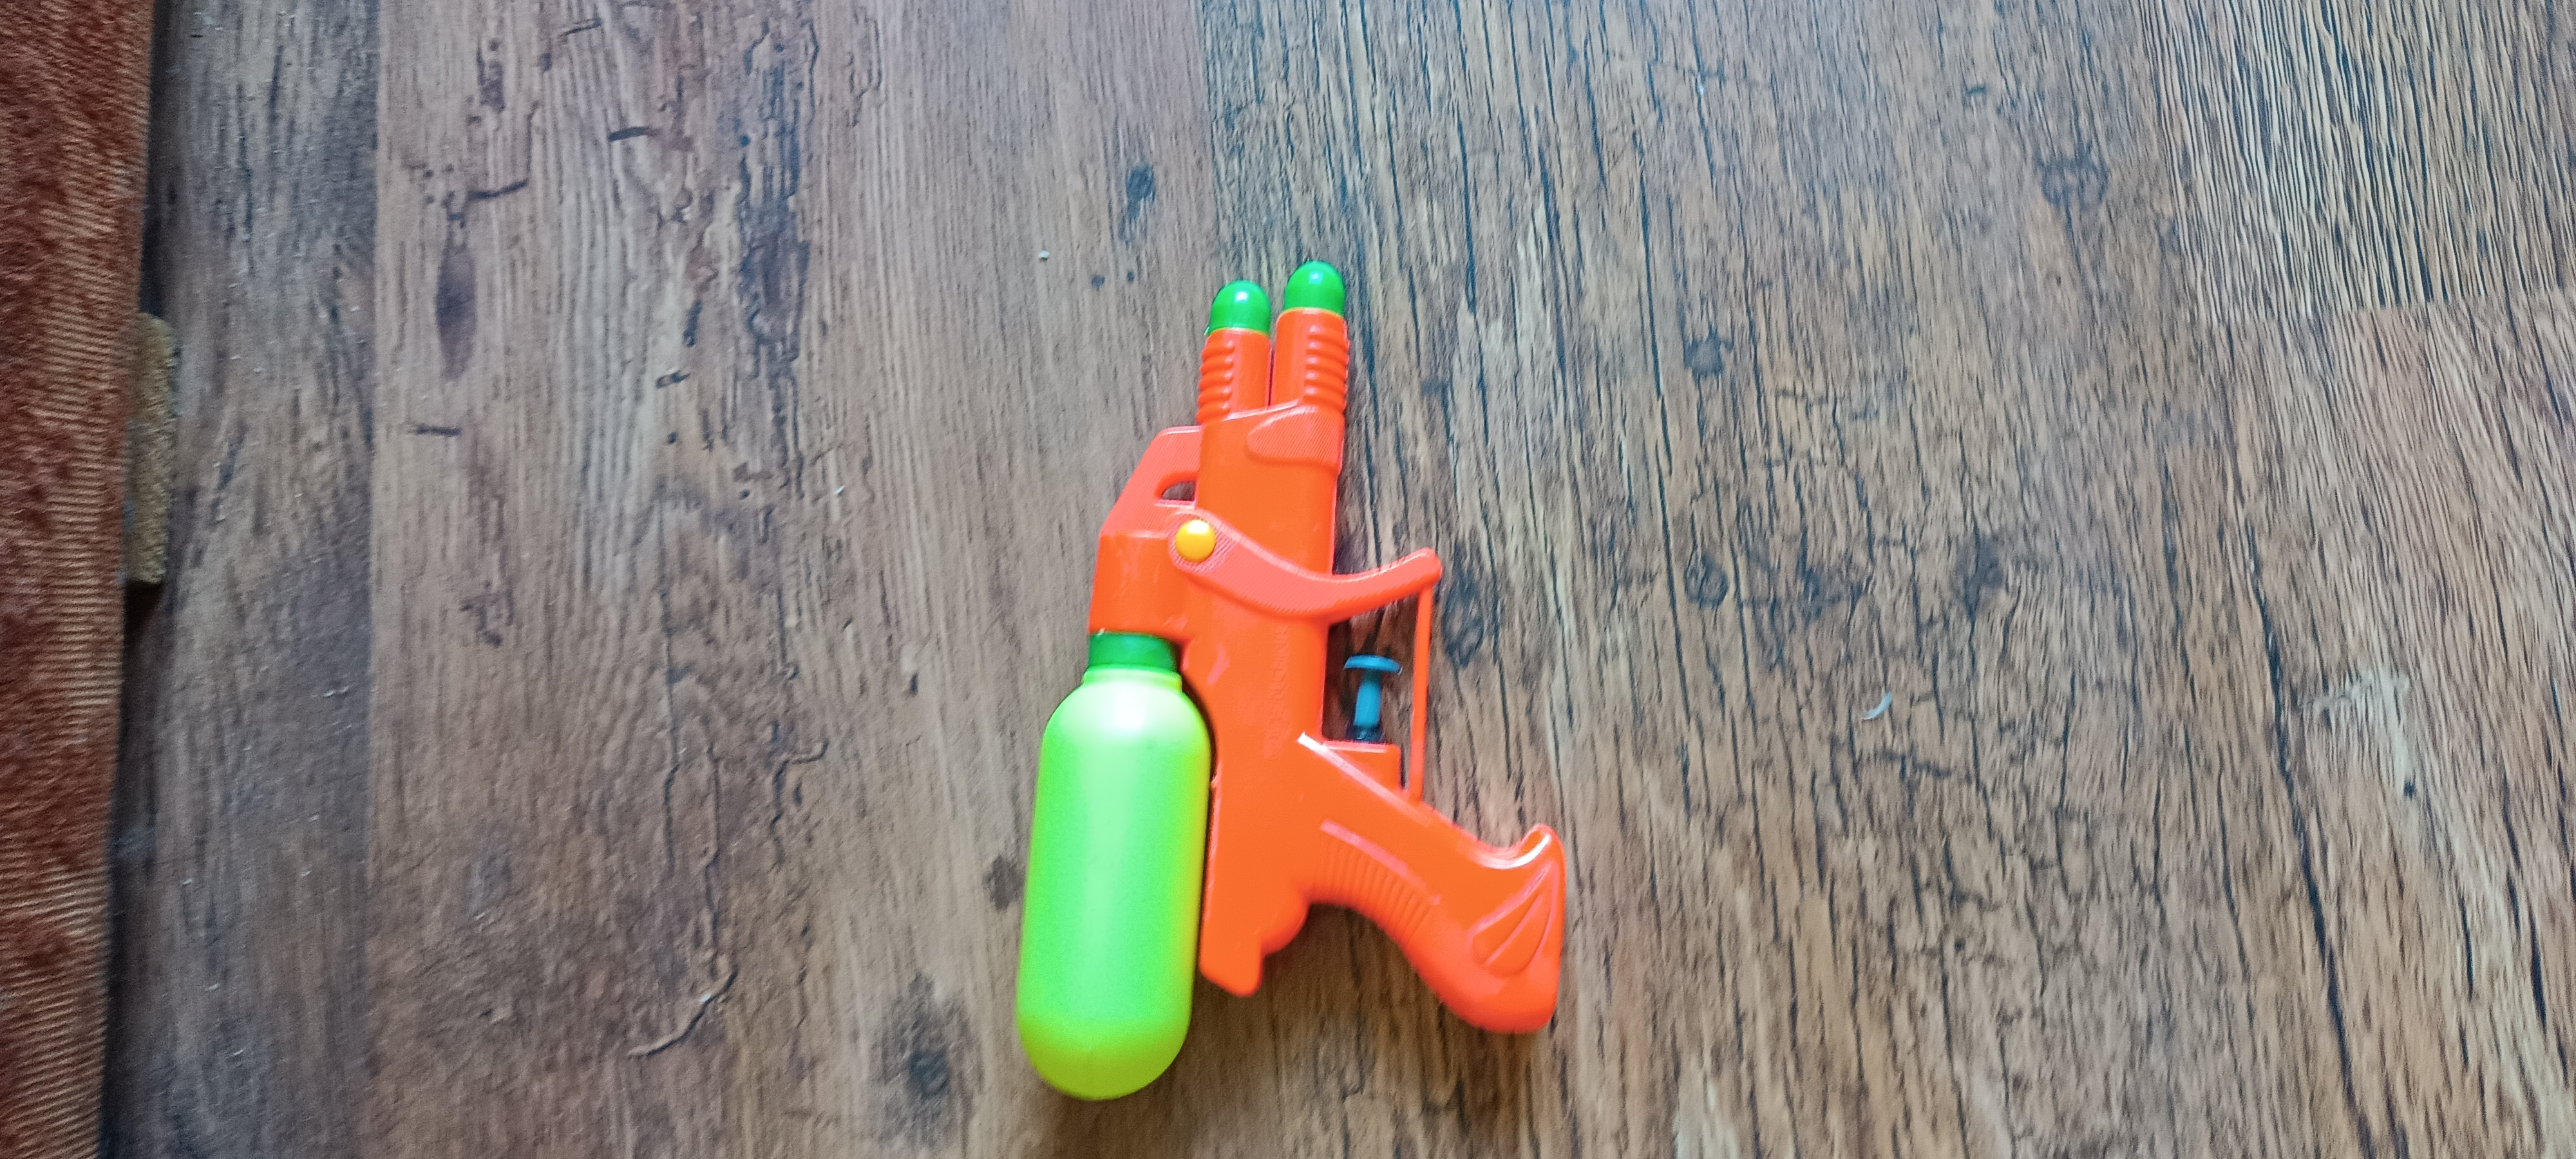Water Gun: (1009, 259, 1567, 1090)
